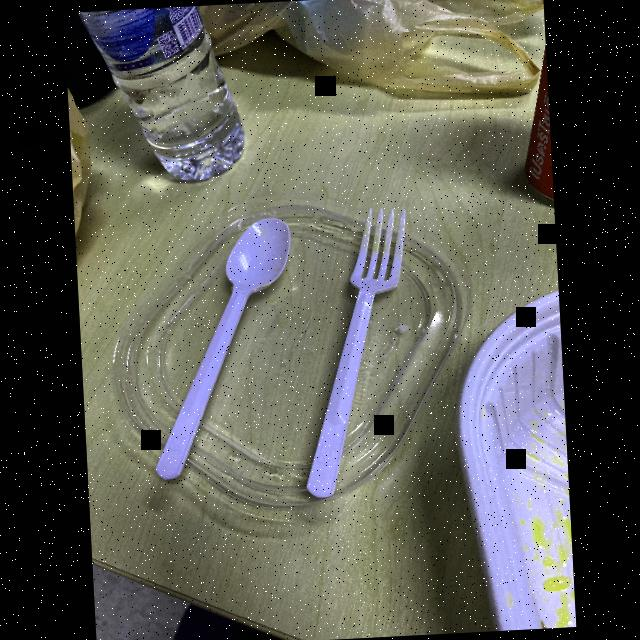plastic_cultery: (138, 204, 304, 486), (280, 204, 428, 504)
